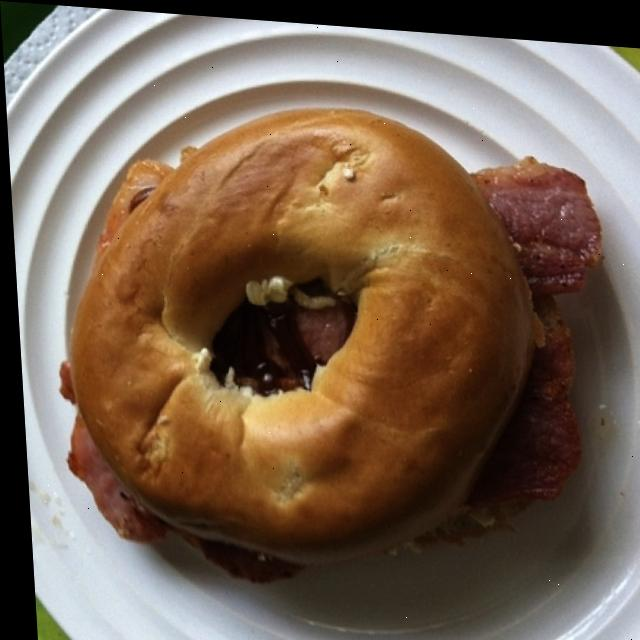面包点心: (33, 76, 596, 595)
